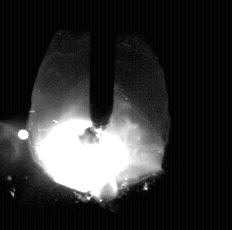arame: (90, 0, 114, 130)
poca: (27, 0, 169, 230)
